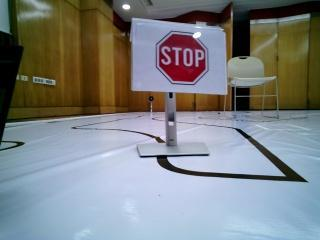stop: (144, 23, 218, 89)
